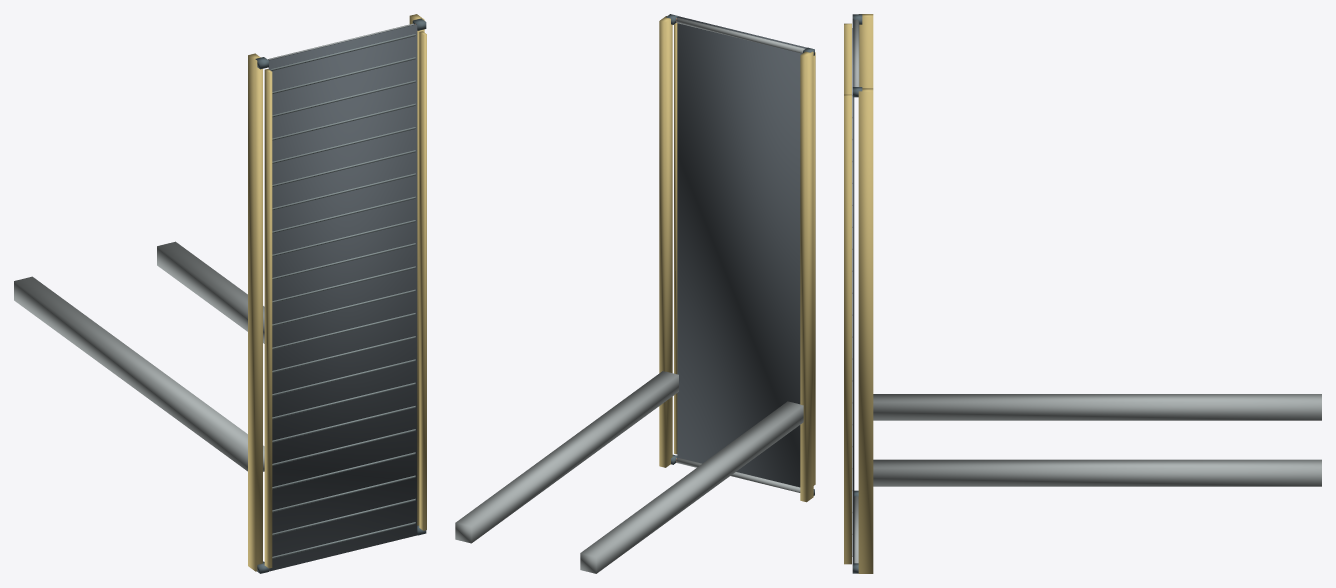
3 renders of one model, left to right at view 1: azimuth 30°, elevation 25°; view 2: azimuth 150°, elevation 25°; view 3: azimuth 270°, elevation 25°, orthographic. The views are drawn at different scales.
Parts seen in each view (by area): view 1: door_belt_contact_contact, door_belt_frame_ground_leg1, door_belt_frame_frame1, door_belt_frame_guide1, door_belt_frame_guide-1, door_belt_frame_ground_leg-1, door_belt_frame_frame-1; view 2: door_belt_contact_contact, door_belt_frame_ground_leg1, door_belt_frame_ground_leg-1, door_belt_frame_frame1, door_belt_frame_frame-1, door_belt_frame_guide-1, door_belt_frame_guide1, door_belt_contact_front_drum, door_belt_contact_rear_drum; view 3: door_belt_frame_ground_leg-1, door_belt_frame_ground_leg1, door_belt_frame_frame-1, door_belt_frame_guide-1, door_belt_contact_contact, door_belt_frame_frame1.
Part boxes in pixels (left/top/right/bottom): door_belt_contact_contact: left=268, top=24, right=417, bottom=571; door_belt_frame_ground_leg1: left=14, top=276, right=264, bottom=471; door_belt_frame_frame1: left=248, top=53, right=262, bottom=571; door_belt_frame_guide1: left=264, top=69, right=272, bottom=568; door_belt_frame_guide-1: left=419, top=31, right=426, bottom=530; door_belt_frame_ground_leg-1: left=157, top=241, right=264, bottom=343; door_belt_frame_frame-1: left=409, top=14, right=424, bottom=525; door_belt_contact_contact: left=677, top=16, right=806, bottom=487; door_belt_frame_ground_leg1: left=580, top=401, right=803, bottom=573; door_belt_frame_ground_leg-1: left=455, top=371, right=678, bottom=543; door_belt_frame_frame1: left=800, top=51, right=813, bottom=502; door_belt_frame_frame-1: left=659, top=16, right=672, bottom=467; door_belt_frame_guide-1: left=674, top=23, right=677, bottom=454; door_belt_frame_guide1: left=813, top=52, right=815, bottom=485; door_belt_contact_front_drum: left=676, top=17, right=804, bottom=53; door_belt_contact_rear_drum: left=676, top=457, right=800, bottom=492; door_belt_frame_ground_leg-1: left=873, top=459, right=1321, bottom=486; door_belt_frame_ground_leg1: left=873, top=394, right=1321, bottom=420; door_belt_frame_frame-1: left=858, top=88, right=873, bottom=573; door_belt_frame_guide-1: left=844, top=94, right=851, bottom=564; door_belt_contact_contact: left=852, top=18, right=854, bottom=563; door_belt_frame_frame1: left=859, top=14, right=873, bottom=88.
Bounding box in the file's own units: 0.685 × 1.98 × 1.78.
